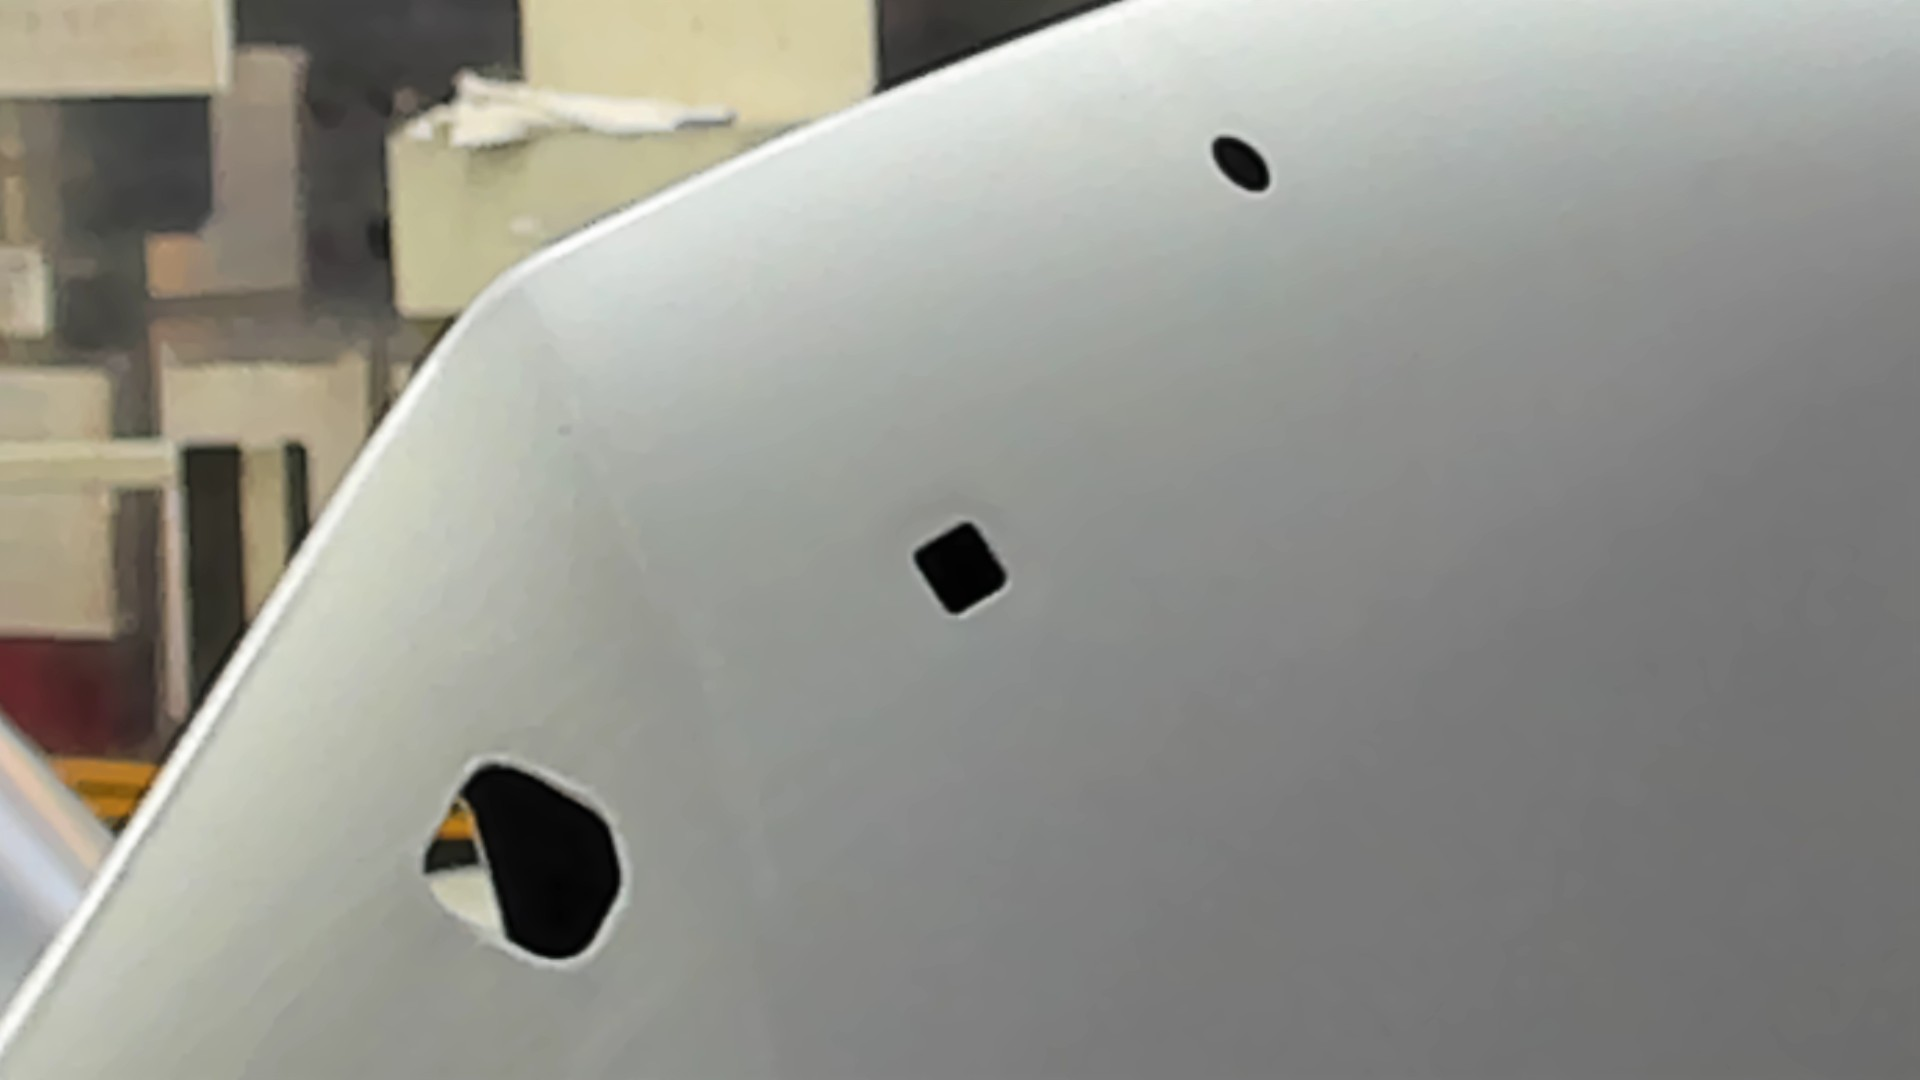chico: (1207, 132, 1275, 200)
grande: (415, 754, 633, 969)
mediano: (902, 512, 1015, 622)
